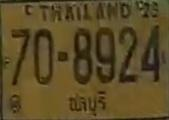0: (33, 28, 53, 84)
2: (118, 26, 138, 83)
4: (140, 24, 160, 81)
7: (10, 28, 30, 82)
8: (72, 27, 92, 83)
9: (95, 27, 115, 82)
CBI: (63, 91, 108, 118)
